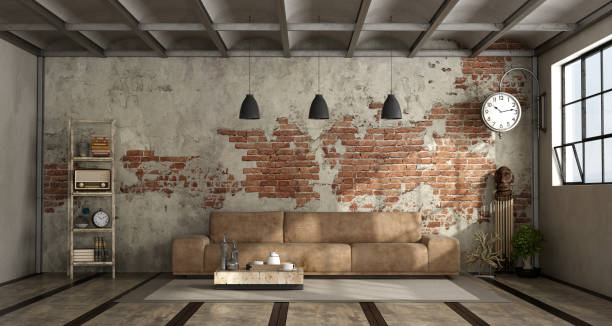small plant: (514, 224, 546, 279)
sofa: (168, 208, 462, 281)
table: (212, 258, 305, 291)
